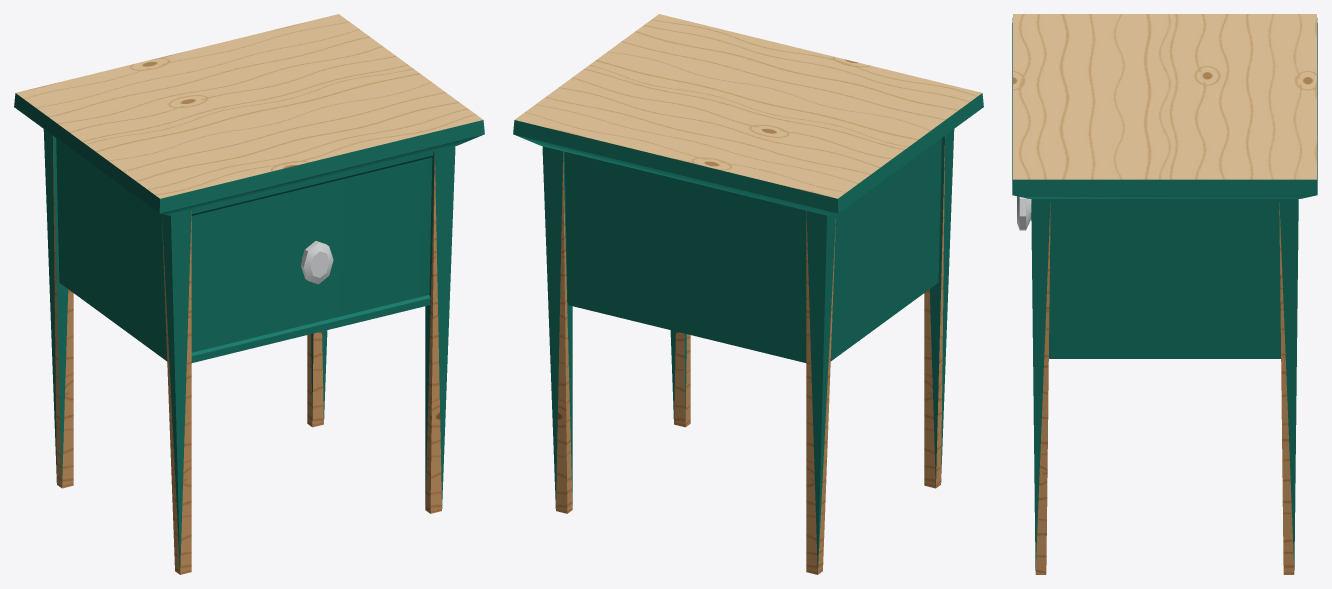
Rendered from cabinet_c.glb.
3 renders of one model, left to right at view 1: azimuth 30°, elevation 25°; view 2: azimuth 150°, elevation 25°; view 3: azimuth 270°, elevation 25°, orthographic. The views are drawn at different scales.
Parts seen in each view (by area): view 1: body; view 2: body; view 3: body.
Part boxes in pixels (box(x1,y1,x2,y2)): body: box(14, 14, 484, 574); body: box(513, 14, 983, 574); body: box(1012, 14, 1317, 574).
Bounding box in the file's own units: 0.8 × 0.92 × 0.62.
Materials: 4 (2 with a texture image).
